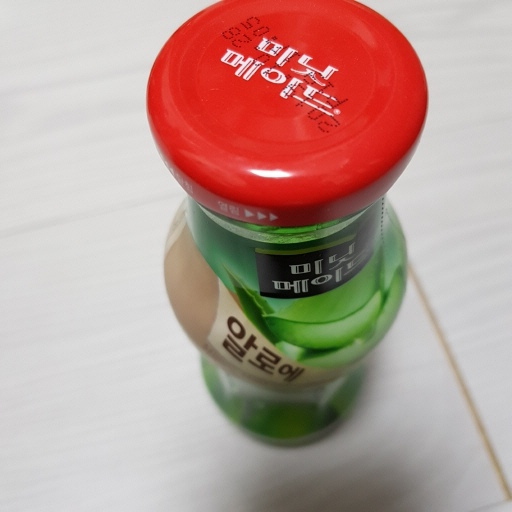Glass_4: (140, 1, 429, 445)
